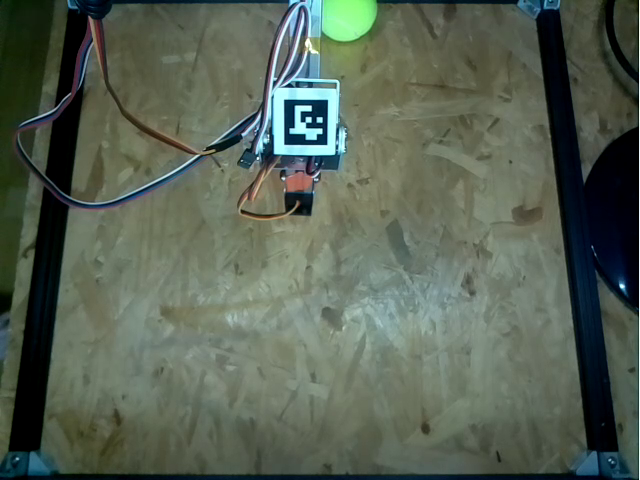tennis_ball: (321, 1, 379, 42)
